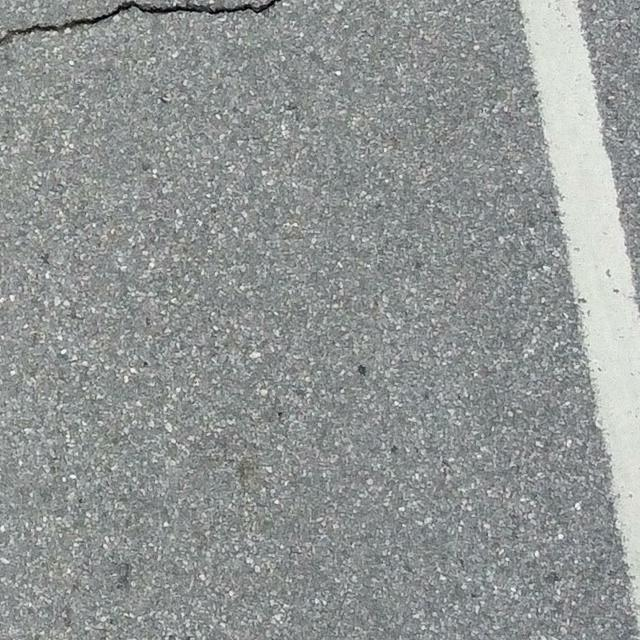TransverseCrack: (1, 1, 281, 44)
